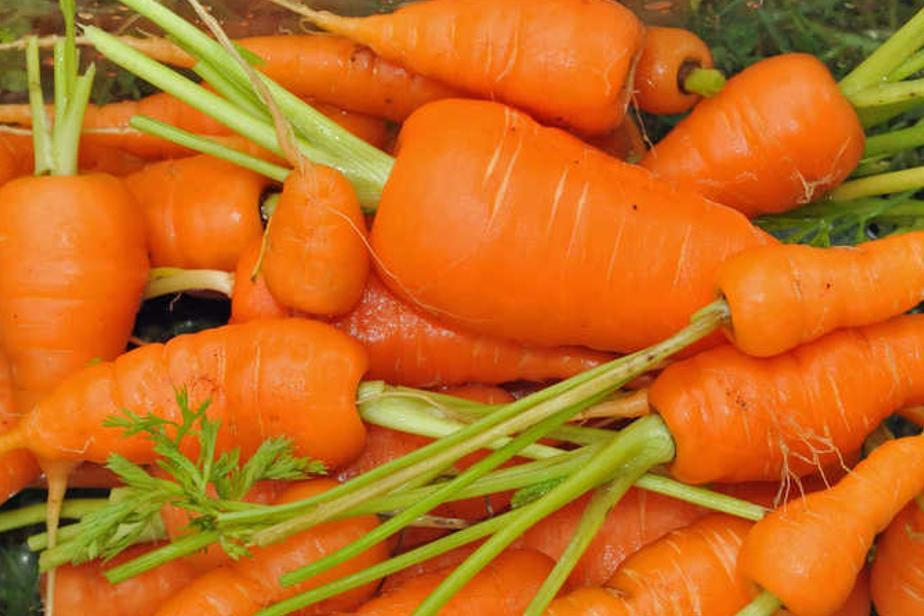carrot: (24, 20, 924, 616), (169, 495, 917, 616), (380, 106, 736, 347), (99, 82, 407, 308), (33, 342, 371, 484), (604, 325, 924, 472), (2, 165, 131, 498), (699, 228, 924, 335)
